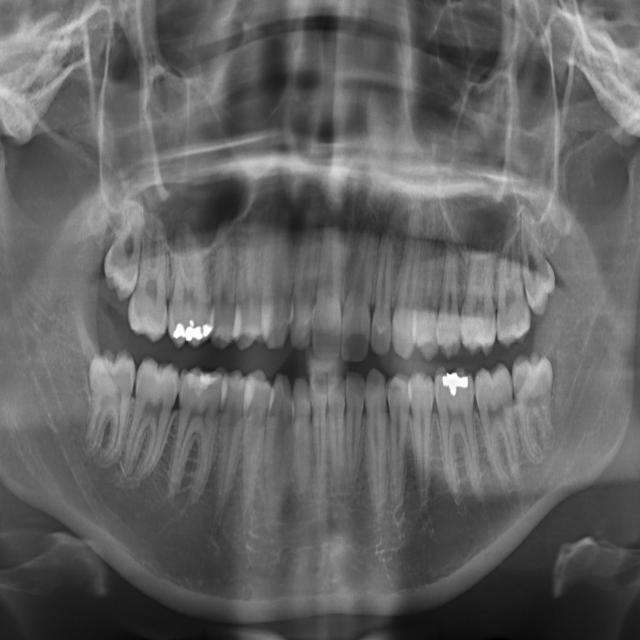AmalgamRestoration: (172, 317, 210, 345), (440, 370, 472, 400)
CompositeResinRestoration: (182, 371, 220, 403)
ImpactedTooth: (511, 353, 560, 453), (85, 348, 136, 444)
